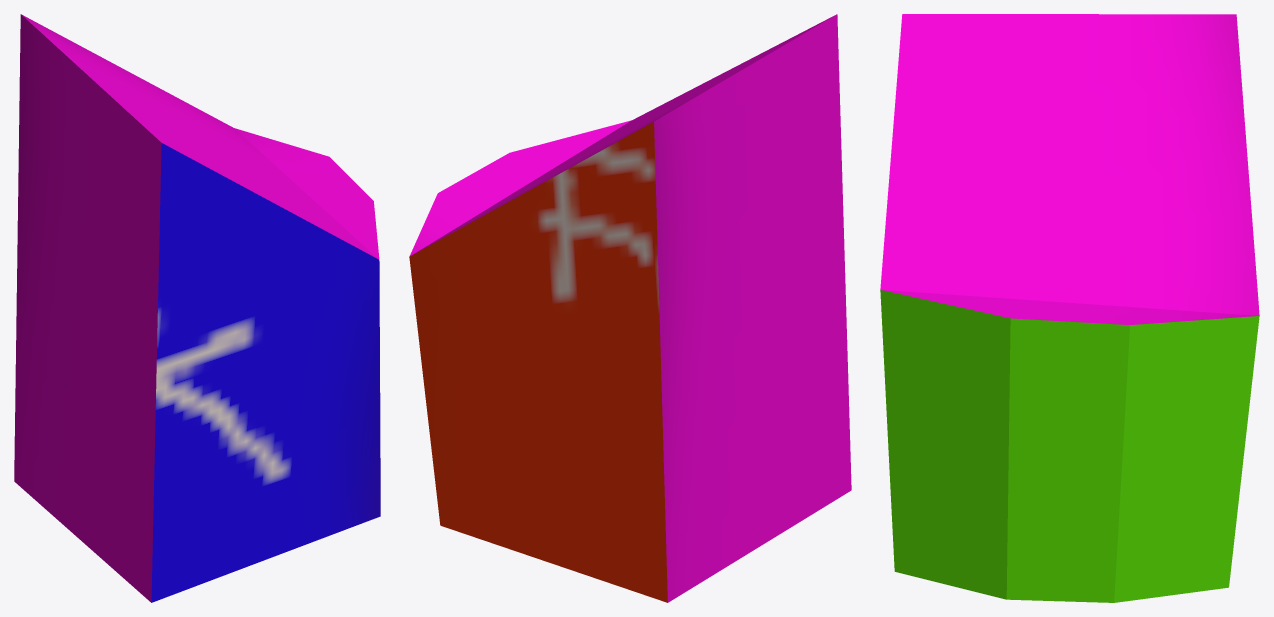
The model's file is Statue2-4.fbx.
The picture shows the model from 3 angles, left to right: view 1: azimuth 30°, elevation 25°; view 2: azimuth 150°, elevation 25°; view 3: azimuth 270°, elevation 25°; orthographic projection. The views are drawn at different scales.
Parts seen in each view (by area): view 1: Cube.011; view 2: Cube.011; view 3: Cube.011.
Part boxes in pixels (x1,y1,x2,y2): Cube.011: (14,14,380,602); Cube.011: (409,14,851,602); Cube.011: (880,14,1259,602).
Size of the model in its own units: 76.15 by 117 by 82.42.
